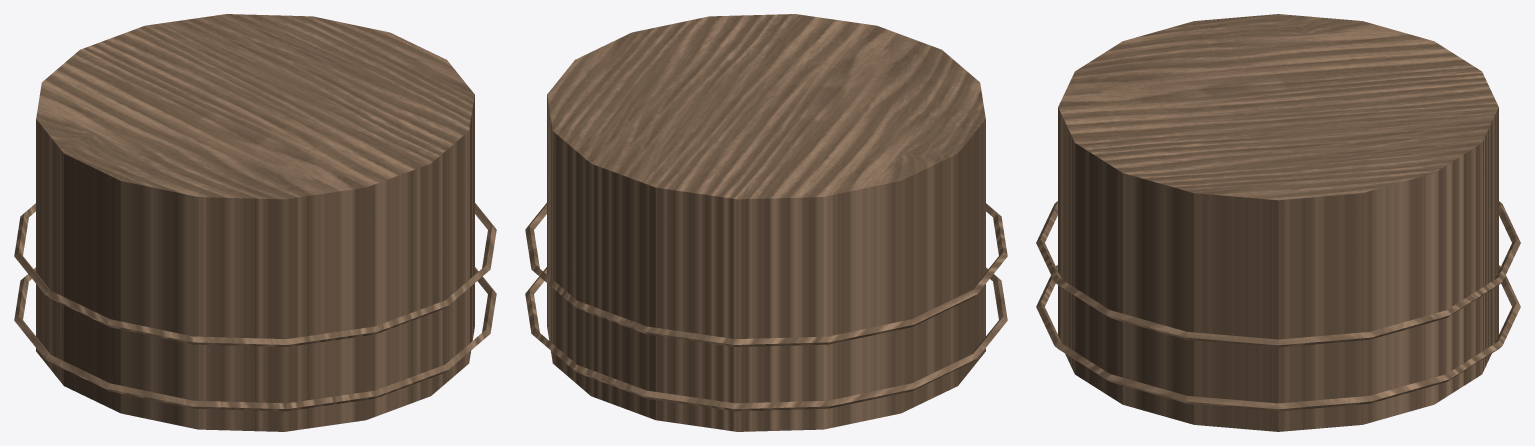
The model's file is half_barrel.fbx.
3 renders of one model, left to right at view 1: azimuth 30°, elevation 25°; view 2: azimuth 150°, elevation 25°; view 3: azimuth 270°, elevation 25°, orthographic.
Visible parts, largest first — view 1: half_barrel; view 2: half_barrel; view 3: half_barrel.
Part boxes in pixels (x1,y1,x2,y2): half_barrel: (14,14,496,431); half_barrel: (525,14,1007,431); half_barrel: (1036,14,1520,431).
Bounding box in the file's own units: 0.55 × 0.29 × 0.55.
1 material, 1 textured.
